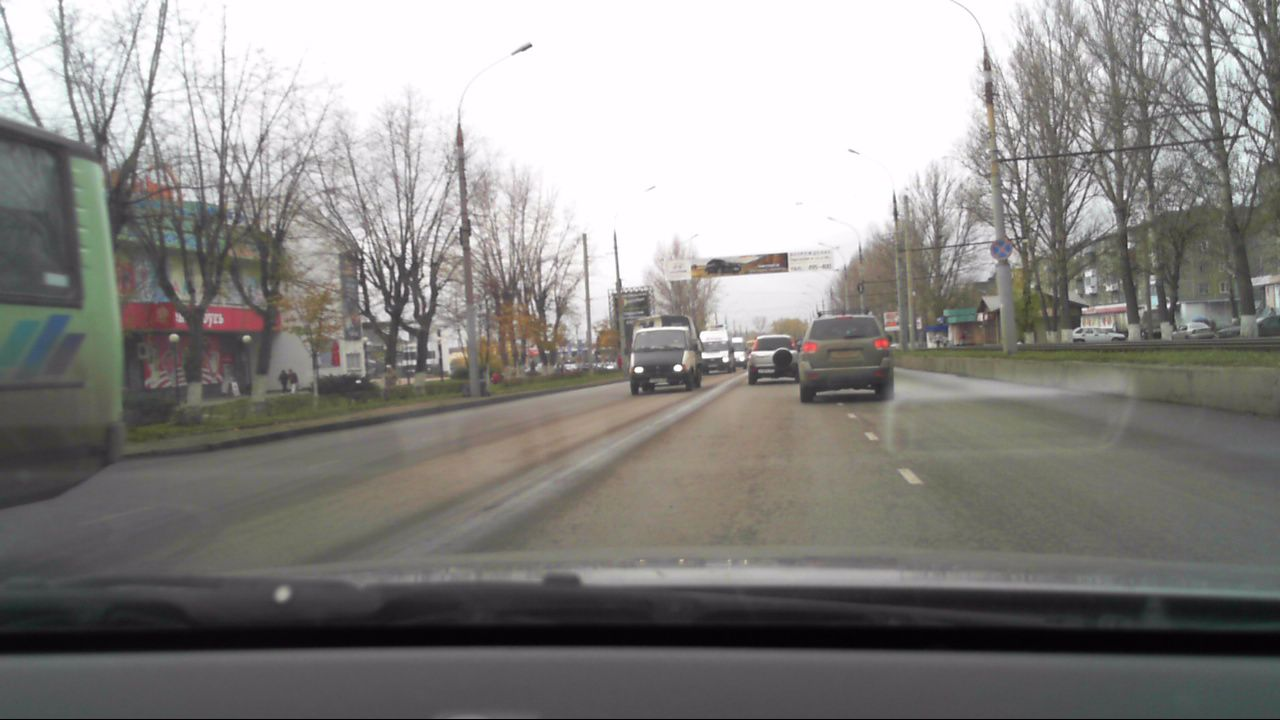No Parking: (989, 238, 1015, 263)
